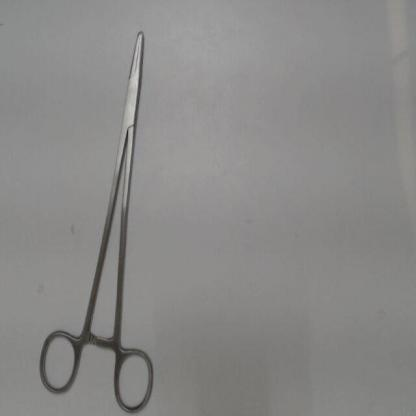8 Mayo Needle Holder: (29, 24, 160, 415)
